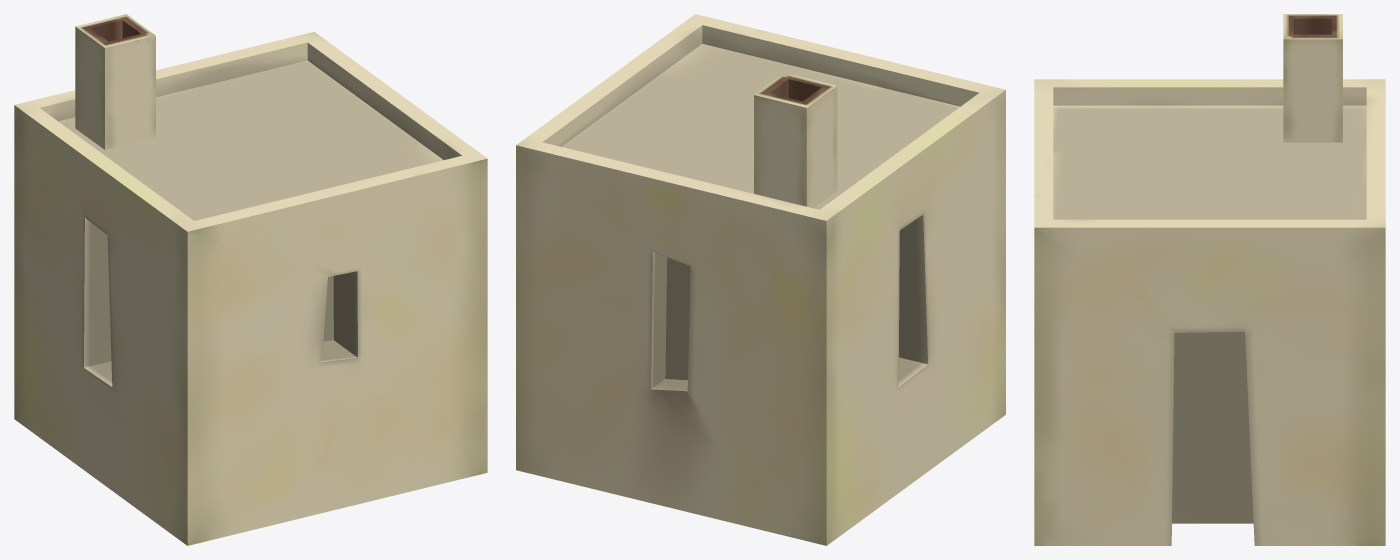
File: House1.fbx
3 renders of one model, left to right at view 1: azimuth 30°, elevation 25°; view 2: azimuth 150°, elevation 25°; view 3: azimuth 270°, elevation 25°, orthographic. The views are drawn at different scales.
Parts seen in each view (by area): view 1: House 1; view 2: House 1; view 3: House 1.
Boxes of the visible parts, <box> form: House 1: <box>14,14,487,545</box>; House 1: <box>516,14,1005,545</box>; House 1: <box>1034,14,1385,545</box>.
Bounding box in the file's own units: 200 × 254 × 200.
